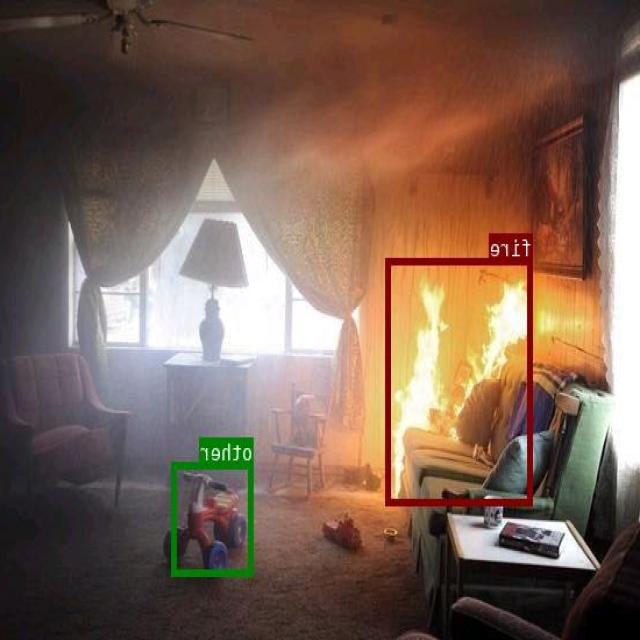fire: (387, 257, 534, 504)
other: (173, 461, 254, 575)
